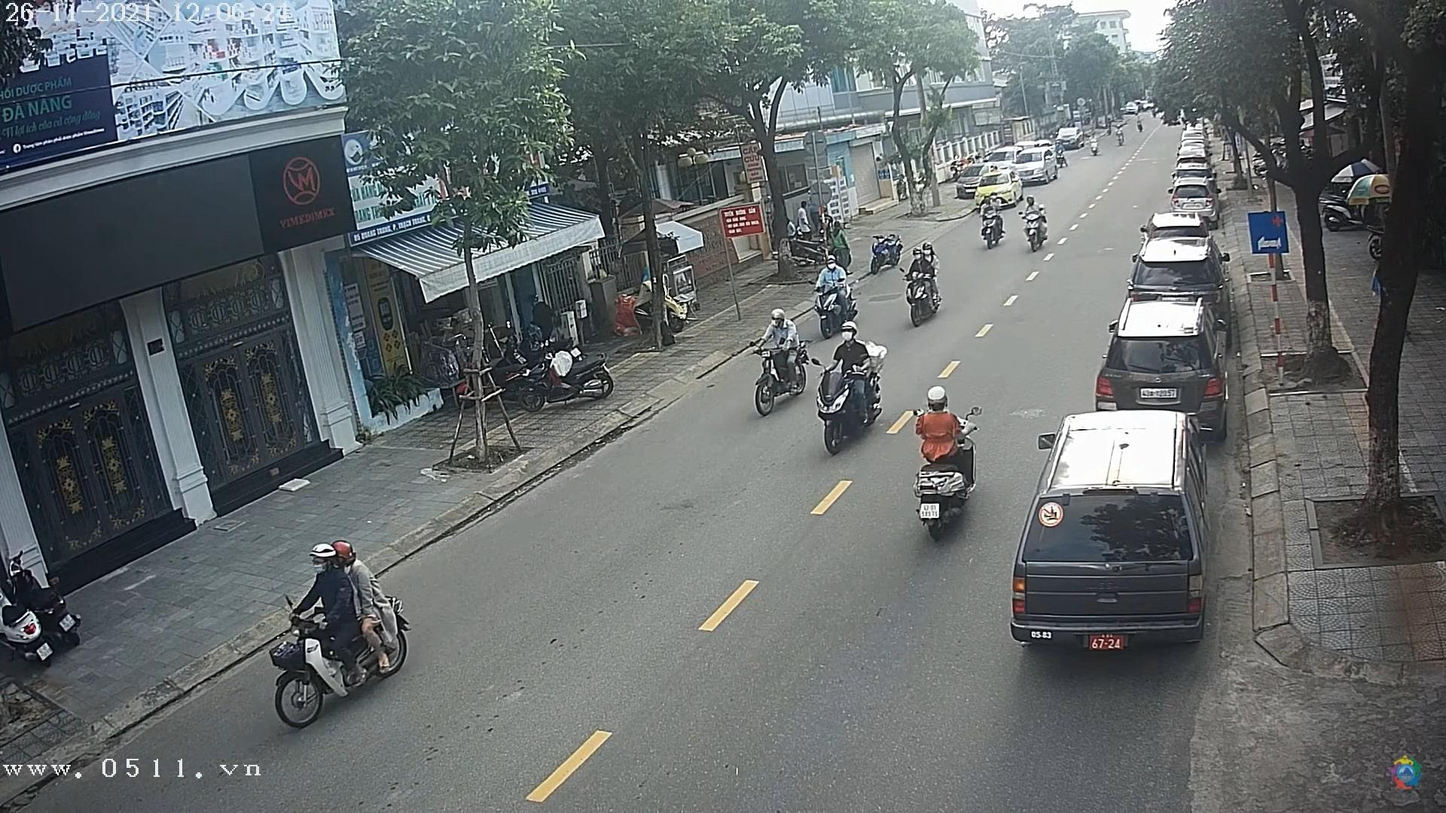motorbike: (268, 599, 417, 733), (811, 356, 885, 451), (901, 269, 949, 330), (1025, 209, 1052, 258), (983, 212, 1006, 245)
